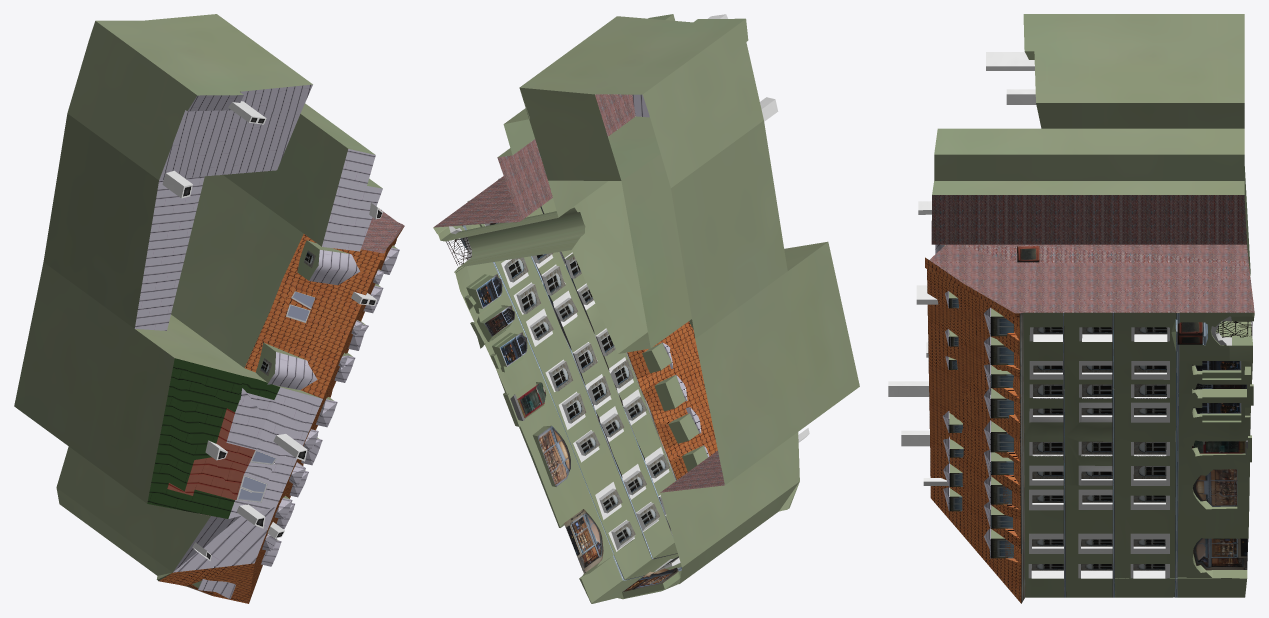
File: vene_1-origo.obj
3 renders of one model, left to right at view 1: azimuth 30°, elevation 25°; view 2: azimuth 150°, elevation 25°; view 3: azimuth 270°, elevation 25°, orthographic. The views are drawn at different scales.
Parts seen in each view (by area): view 1: polySurface97; view 2: polySurface97; view 3: polySurface97.
Part boxes in pixels (<box>): polySurface97: <box>14,14,404,603</box>; polySurface97: <box>433,14,859,603</box>; polySurface97: <box>888,14,1254,603</box>.
Size of the model in its own units: 26.06 by 45.5 by 26.83.
